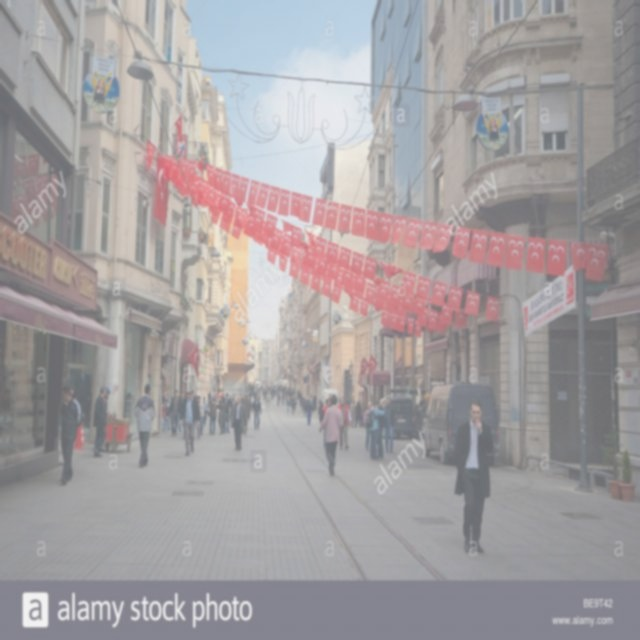pessoa: (452, 396, 494, 554), (317, 394, 344, 476), (59, 384, 80, 487), (132, 382, 156, 469), (180, 388, 201, 457), (93, 384, 109, 458), (229, 394, 249, 452), (368, 399, 385, 462), (94, 386, 108, 452), (382, 396, 397, 454), (372, 404, 386, 461), (337, 398, 352, 450), (481, 110, 503, 142), (80, 361, 91, 422), (168, 389, 180, 437), (362, 400, 373, 452), (322, 398, 332, 449), (176, 390, 186, 434), (217, 395, 228, 435), (240, 392, 252, 428), (250, 394, 262, 429), (223, 392, 233, 434), (245, 380, 266, 400), (91, 78, 106, 104), (208, 396, 217, 436), (161, 398, 171, 433), (296, 388, 308, 417), (197, 395, 205, 437), (66, 382, 80, 402), (66, 364, 80, 384), (122, 388, 131, 417), (305, 398, 314, 426), (200, 396, 208, 426), (354, 399, 362, 428), (348, 399, 356, 428), (230, 392, 237, 422), (161, 377, 168, 402), (284, 394, 292, 414), (212, 390, 228, 400), (309, 392, 317, 412), (266, 384, 286, 391), (318, 399, 324, 422), (285, 384, 296, 396), (291, 394, 296, 416), (266, 390, 272, 408), (207, 390, 212, 410), (270, 390, 278, 400), (276, 389, 280, 407), (281, 388, 285, 405), (344, 396, 350, 406), (238, 390, 244, 398), (192, 389, 196, 401), (359, 400, 363, 410), (184, 390, 188, 397), (307, 392, 310, 399), (338, 398, 340, 404)
